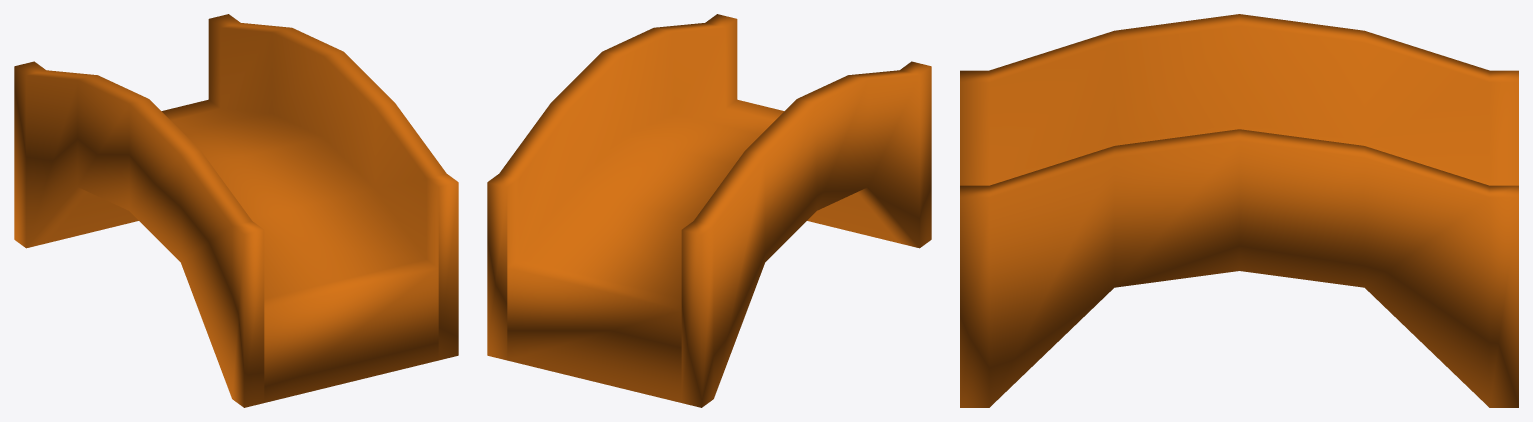
The model's file is Ponte.fbx.
3 renders of one model, left to right at view 1: azimuth 30°, elevation 25°; view 2: azimuth 150°, elevation 25°; view 3: azimuth 270°, elevation 25°, orthographic. The views are drawn at different scales.
Visible parts, largest first — view 1: Bridge; view 2: Bridge; view 3: Bridge.
Boxes of the visible parts, bbox=[...] form: Bridge: bbox=[14, 14, 458, 407]; Bridge: bbox=[487, 14, 931, 407]; Bridge: bbox=[960, 14, 1518, 407].
Bounding box in the file's own units: 420 × 411 × 780.
